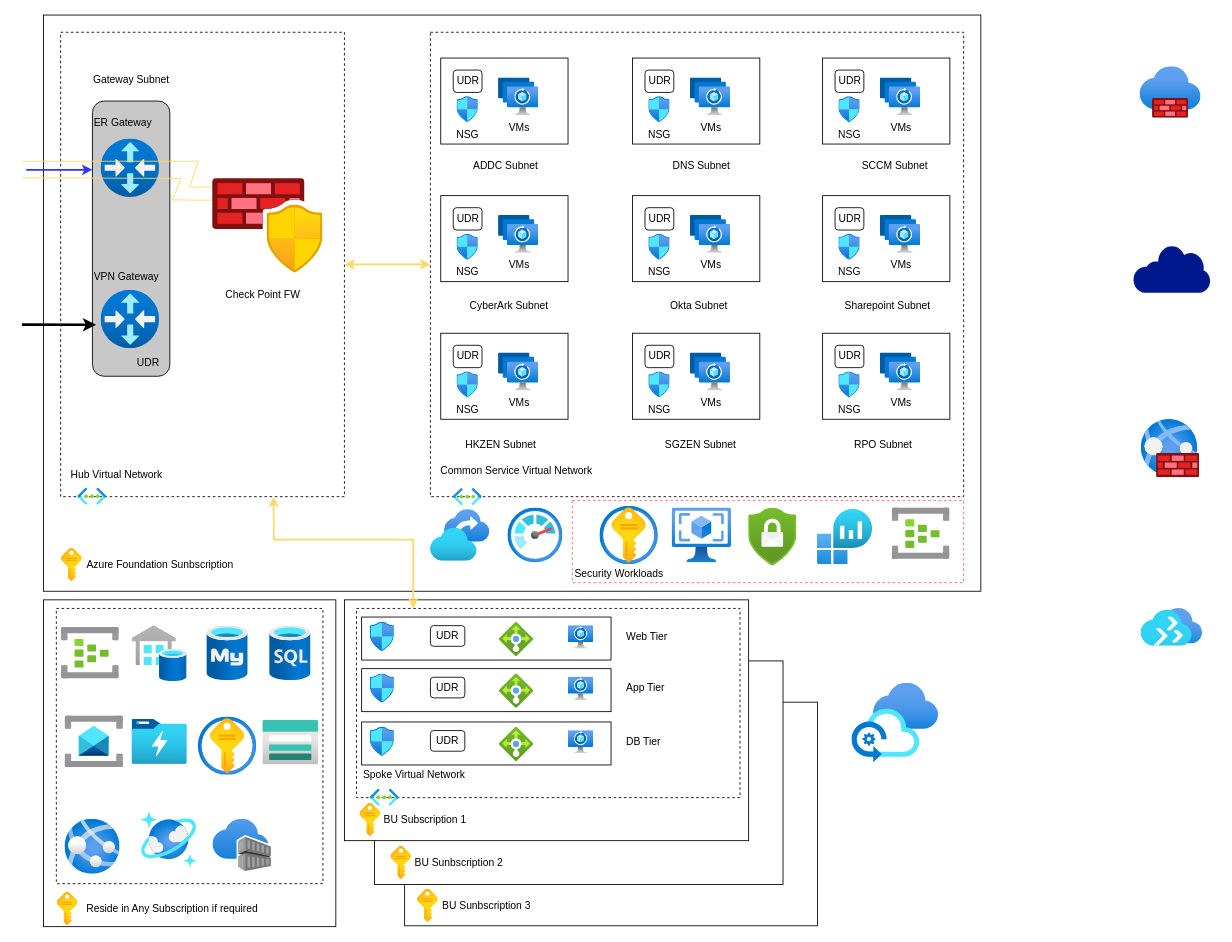
Some shapes in this 1232 by 942 pixel diagram are drawn without their labels. Here are the shapes that lost their labels. From the top down, the centre of each, then its label:
[1170,92]: ZScaler Cloud Proxy
[1171,268]: Internet
[1170,448]: F5 Cloud WAF
[1171,627]: Multi Cloud Service
[894,722]: Microsoft Azure Infrastructure
